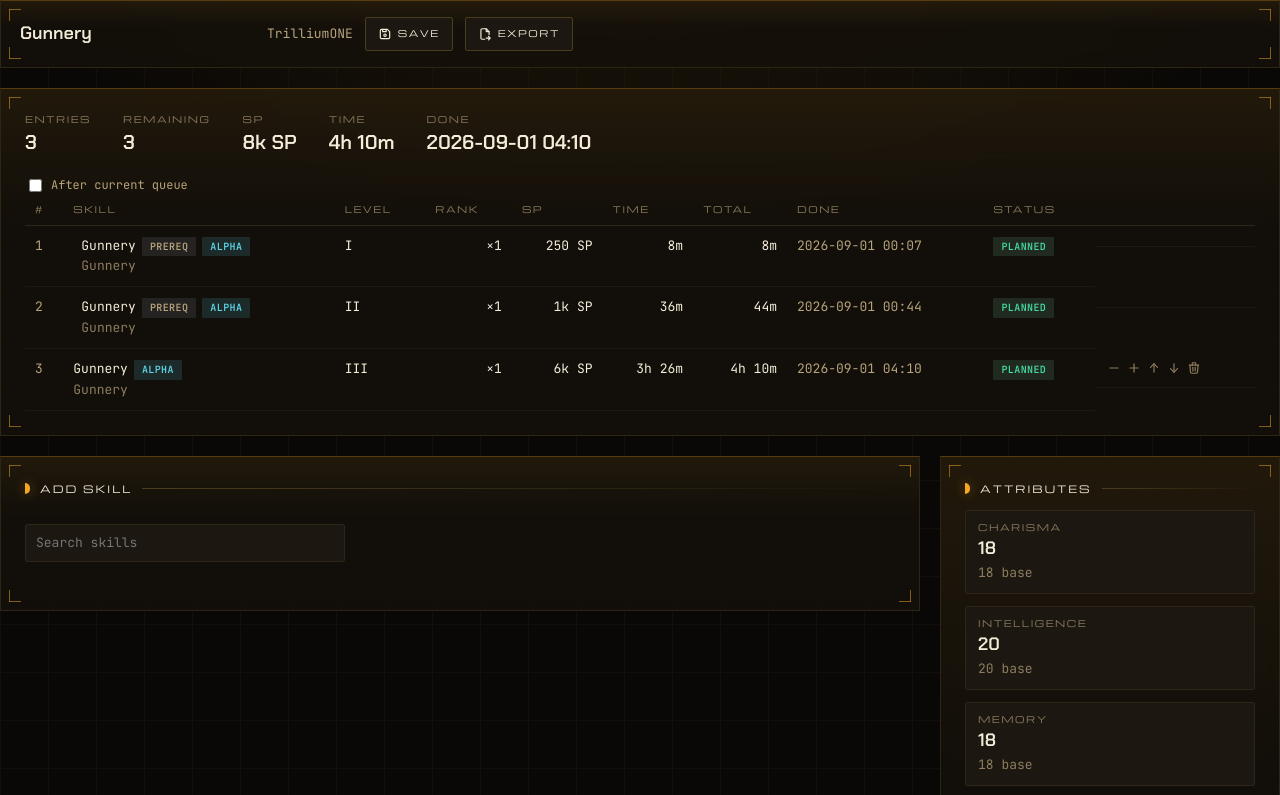
Test case: PlanEditor › adds a skill and inserts its prerequisites
In the field labelled "Search skills": [185, 543] box [25,524,345,562], type "weapon"
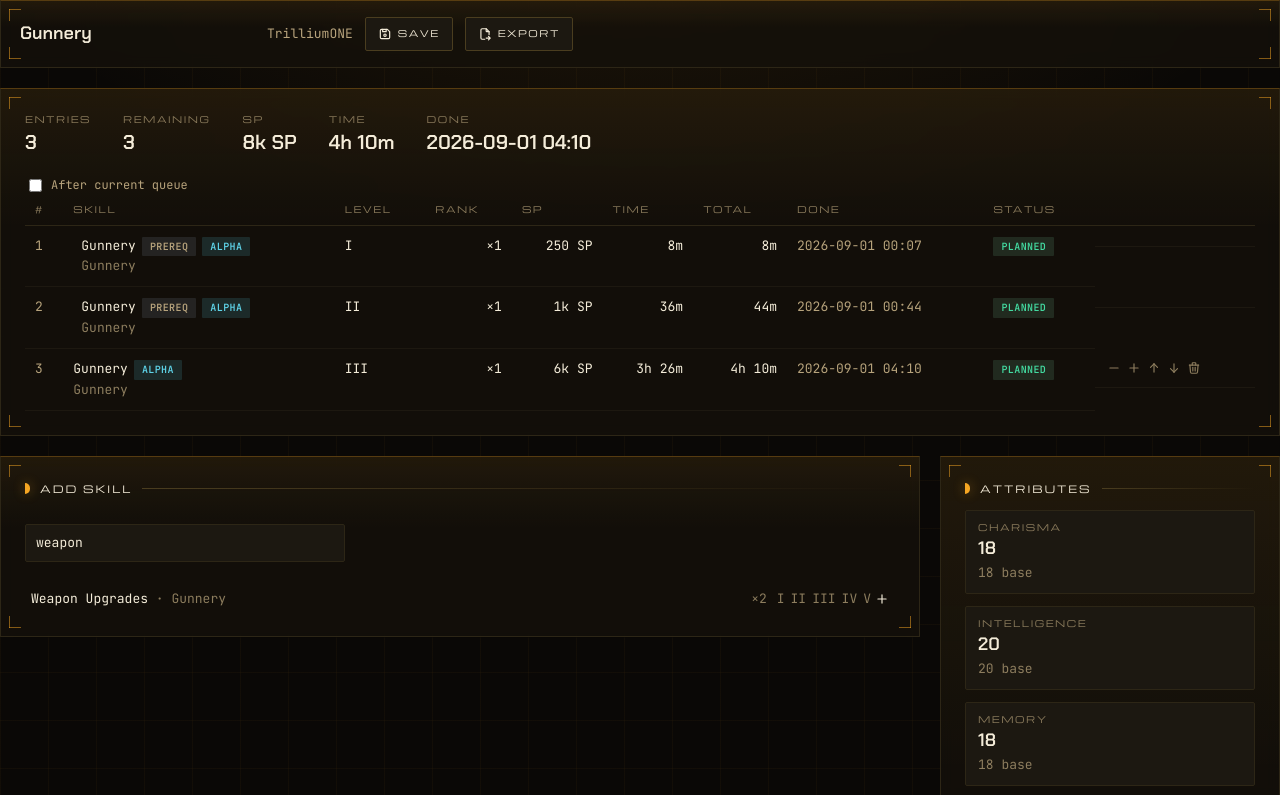
Click the button with aria-label "Add Weapon Upgrades IV": [849, 599] box [840,597,859,601]
(page scrolled)
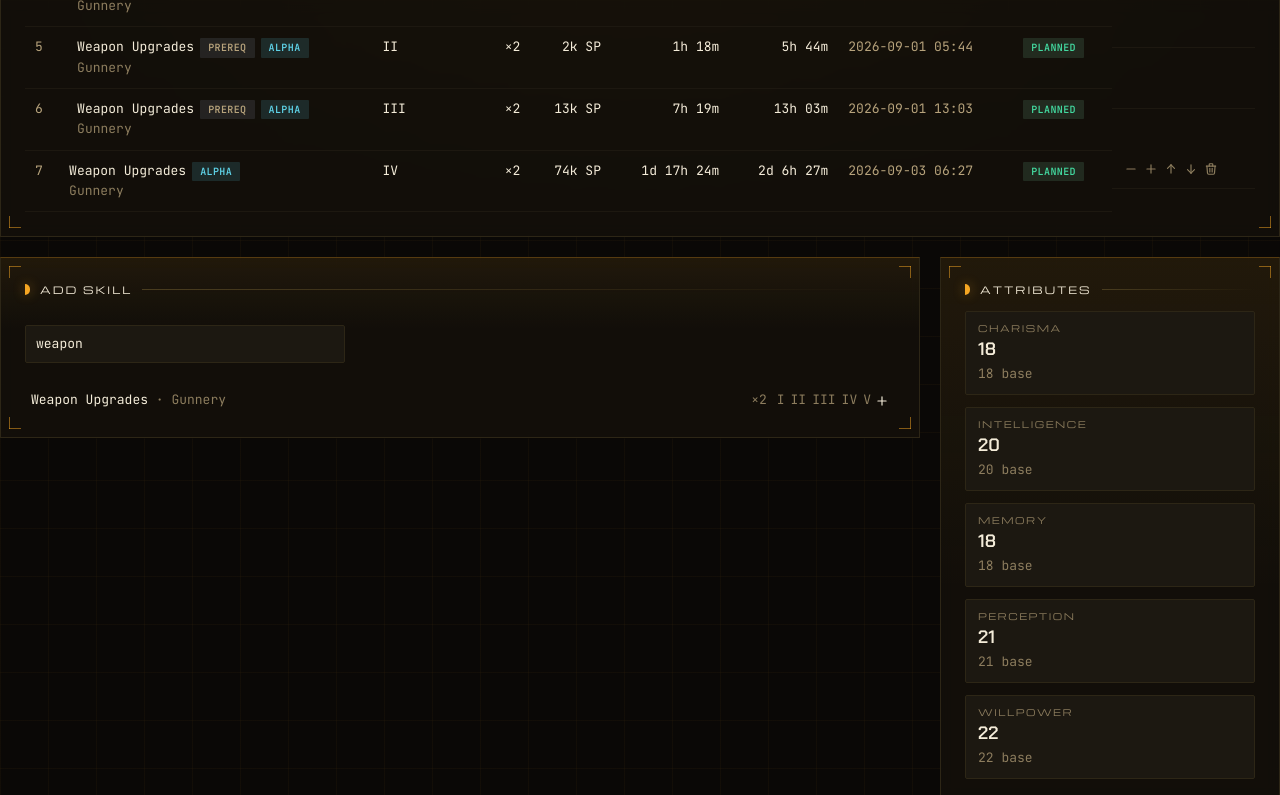
expect the button with aria-label "Add Weapon Upgrades IV" is shown: met, box [840,399,859,403]
expect the number of rows is 8: met
expect the text "Weapon Upgrades" is shown 4 times: met
